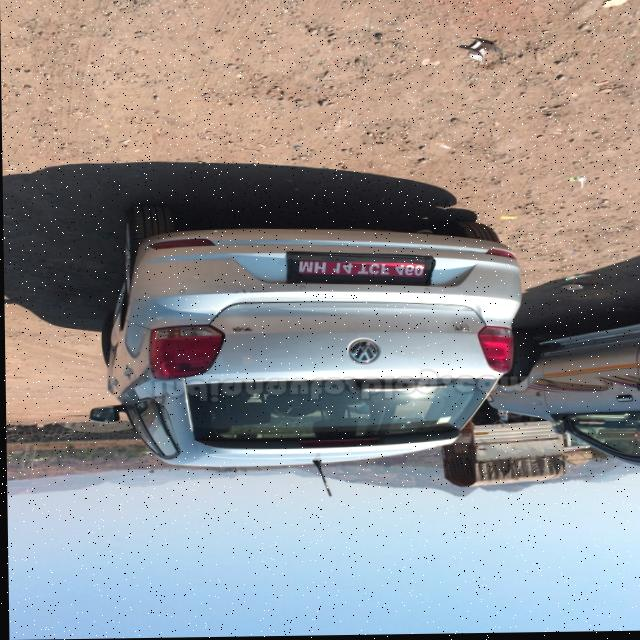plate: (295, 253, 429, 285)
